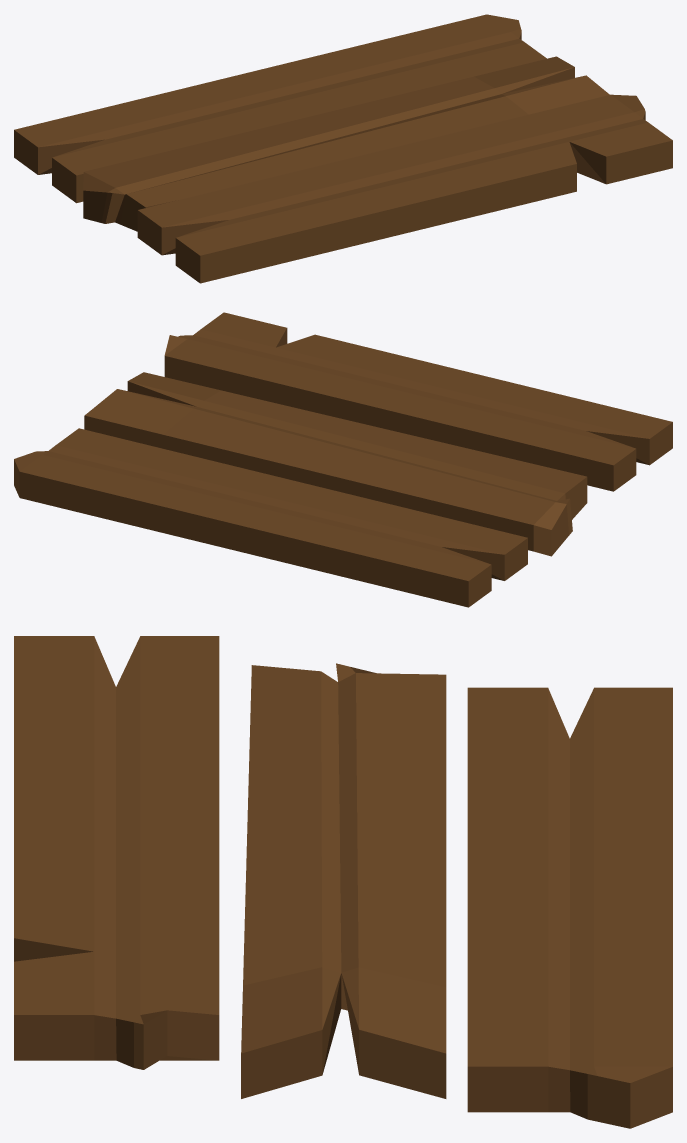
The model's file is Bretter.fbx.
3 views of the same model, one above another, from view 1: azimuth 30°, elevation 25°; view 2: azimuth 150°, elevation 25°; view 3: azimuth 270°, elevation 25° (orthographic). The views are drawn at different scales.
Parts seen in each view (by area): view 1: Latten.003, Latten.002, Latten.001; view 2: Latten.002, Latten.003, Latten.001; view 3: Latten.002, Latten.003, Latten.001.
Part boxes in pixels (x1,y1,x2,y2): Latten.003: [137, 94, 672, 283]; Latten.002: [14, 14, 546, 203]; Latten.001: [83, 56, 609, 231]; Latten.002: [14, 428, 527, 607]; Latten.003: [164, 312, 672, 491]; Latten.001: [84, 372, 587, 556]; Latten.002: [467, 687, 672, 1128]; Latten.003: [14, 636, 219, 1069]; Latten.001: [241, 663, 446, 1098].
Bounding box in the file's own units: 774 × 89.71 × 531.
